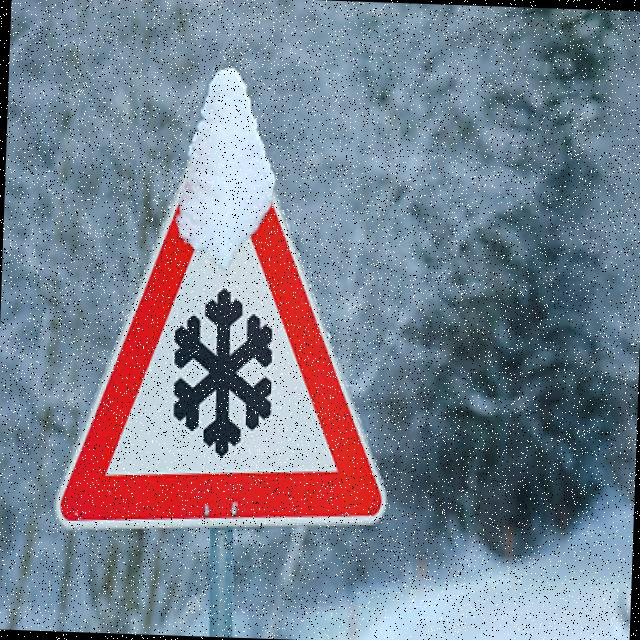snow_warning: (36, 57, 402, 554)
